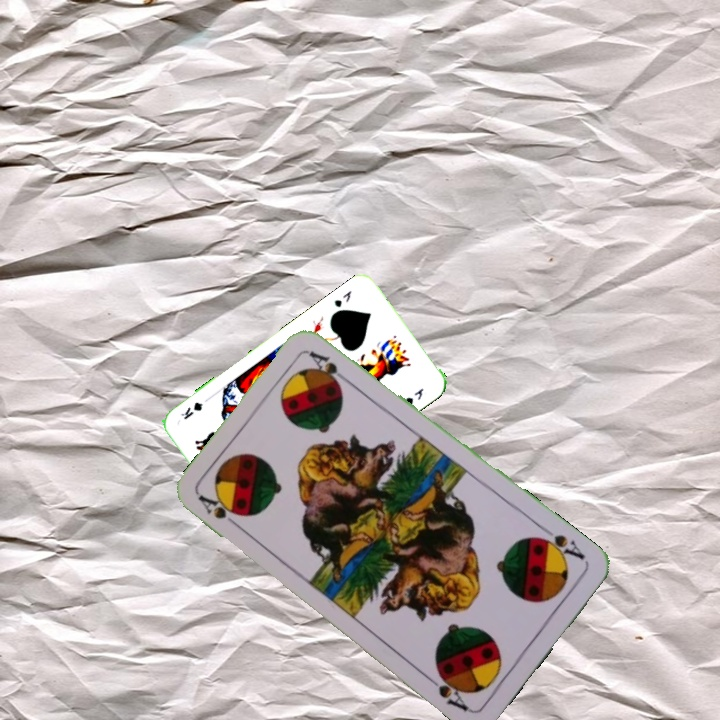GK: (330, 286, 354, 310)
SA: (532, 523, 588, 565), (194, 491, 246, 533)
